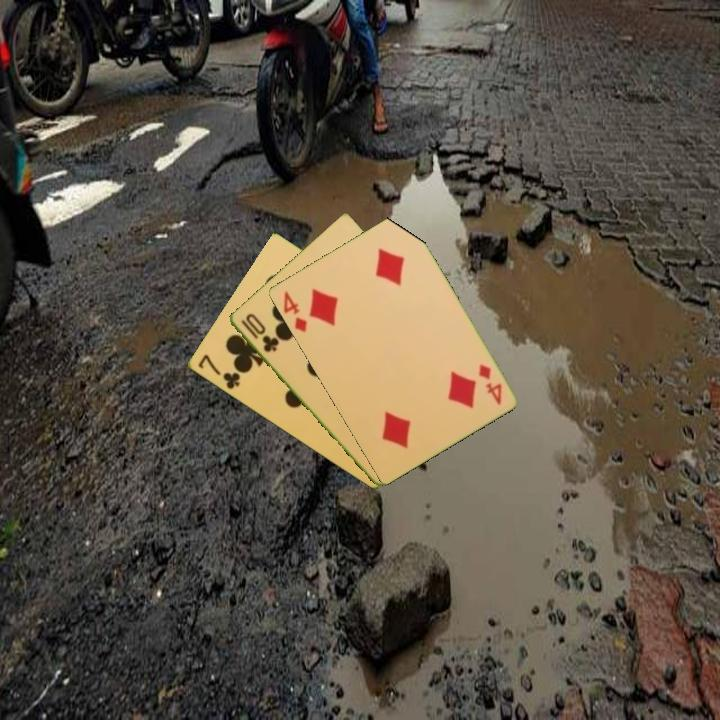10c: (237, 310, 282, 355)
4d: (279, 287, 310, 335), (474, 360, 504, 408)
7c: (194, 351, 243, 392)
